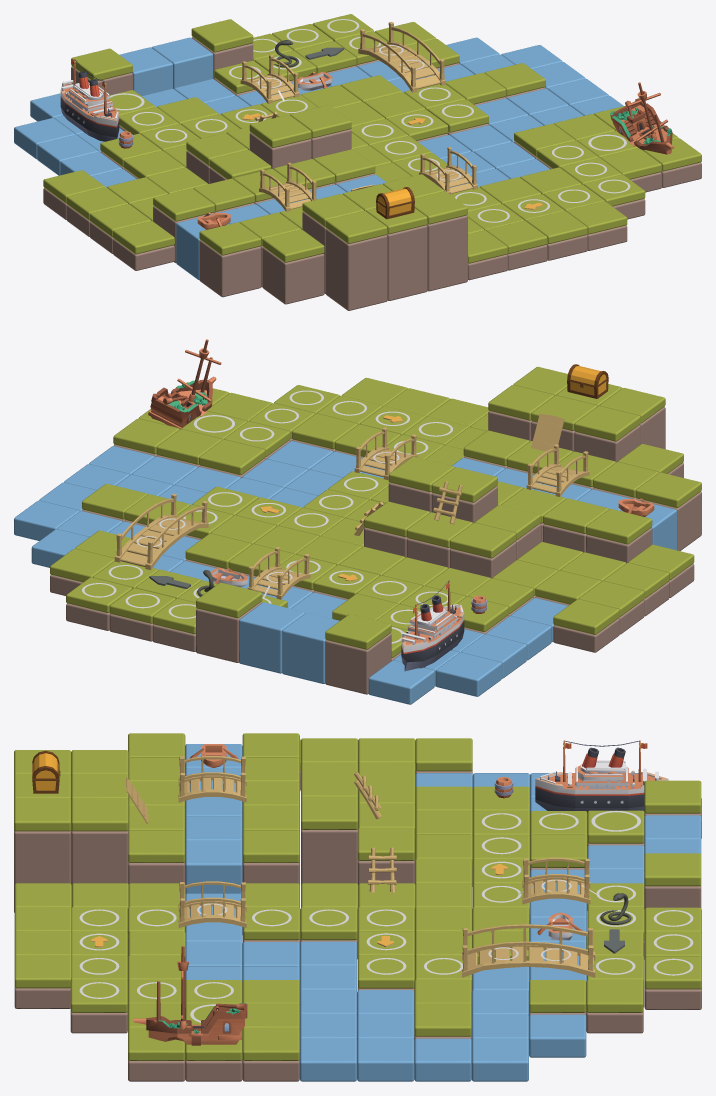
Rendered from game_map.glb.
3 renders of one model, top to bottom at view 1: azimuth 30°, elevation 25°; view 2: azimuth 150°, elevation 25°; view 3: azimuth 270°, elevation 25°, orthographic. The views are drawn at different scales.
Parts seen in each view (by area): view 1: Cube.103, Cube.126, Cube.143, Cube.123, Cube.130, Cube.127, ship-ocean-liner-small.001, Cube.121, Cube.136, Cube.097, ship-wreck, Cube.107 (+90 smaller); view 2: Cube.103, Cube.143, Cube.130, Cube.121, Cube.122, ship-ocean-liner-small.001, Cube.136, Cube.124, Cube.139, Cube.092, ship-wreck, Cube.120 (+89 smaller); view 3: Cube.253, Cube.103, Cube.130, Cube.122, Cube.126, ship-ocean-liner-small.001, Cube.136, Cube.119, Cube.120, Cube.143, ship-wreck, Cube.005 (+101 smaller).
Part boxes in pixels (x1=…): Cube.103: x1=71, y1=19, x2=253, y2=95; Cube.126: x1=366, y1=191, x2=467, y2=300; Cube.143: x1=153, y1=188, x2=261, y2=297; Cube.123: x1=325, y1=211, x2=387, y2=310; Cube.130: x1=249, y1=105, x2=351, y2=168; Cube.127: x1=262, y1=229, x2=324, y2=304; ship-ocean-liner-small.001: x1=60, y1=59, x2=119, y2=141; Cube.121: x1=193, y1=178, x2=300, y2=287; Cube.136: x1=358, y1=22, x2=445, y2=92; Cube.097: x1=113, y1=221, x2=174, y2=270; ship-wreck: x1=610, y1=82, x2=673, y2=154; Cube.107: x1=526, y1=211, x2=587, y2=260; Cube.103: x1=196, y1=582, x2=391, y2=694; Cube.143: x1=586, y1=472, x2=701, y2=562; Cube.130: x1=388, y1=456, x2=497, y2=522; Cube.121: x1=543, y1=462, x2=658, y2=552; Cube.122: x1=488, y1=385, x2=597, y2=451; ship-ocean-liner-small.001: x1=401, y1=580, x2=464, y2=671; Cube.136: x1=114, y1=493, x2=208, y2=570; Cube.124: x1=574, y1=406, x2=640, y2=462; Cube.139: x1=450, y1=523, x2=516, y2=578; Cube.092: x1=553, y1=599, x2=619, y2=652; ship-wreck: x1=148, y1=339, x2=221, y2=429; Cube.120: x1=501, y1=451, x2=615, y2=541; Cube.253: x1=128, y1=830, x2=299, y2=893; Cube.103: x1=644, y1=780, x2=701, y2=909; Cube.130: x1=301, y1=772, x2=358, y2=884; Cube.122: x1=71, y1=774, x2=128, y2=884; Cube.126: x1=14, y1=774, x2=71, y2=912; ship-ocean-liner-small.001: x1=535, y1=740, x2=668, y2=812; Cube.136: x1=462, y1=924, x2=595, y2=977; Cube.119: x1=128, y1=806, x2=299, y2=842; Cube.120: x1=128, y1=781, x2=299, y2=818; Cube.143: x1=128, y1=733, x2=299, y2=769; ship-wreck: x1=133, y1=946, x2=247, y2=1045; Cube.005: x1=242, y1=1028, x2=299, y2=1081.
Size of the model in its own units: 12.96 by 2.32 by 12.01.
21 materials, 19 textured.
